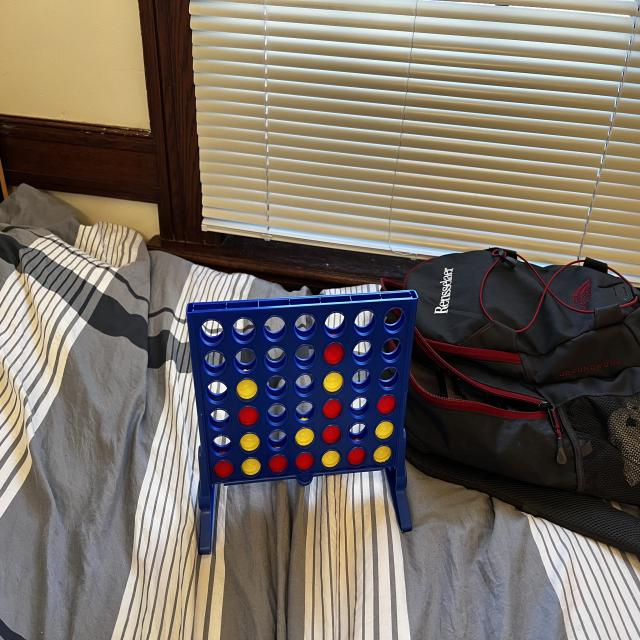Board: (185, 286, 420, 488)
No Piece: (323, 308, 349, 341), (199, 318, 226, 349), (382, 304, 408, 336), (230, 315, 258, 344), (353, 307, 378, 339), (262, 313, 289, 342), (263, 344, 289, 374), (200, 350, 229, 376), (294, 312, 319, 342), (232, 347, 258, 375), (206, 406, 232, 434), (264, 374, 290, 401), (351, 338, 376, 366), (293, 370, 318, 398), (202, 381, 231, 405), (292, 397, 318, 423), (380, 336, 404, 364), (350, 367, 374, 395), (294, 344, 318, 370), (266, 402, 290, 428), (209, 434, 235, 458), (377, 365, 401, 390), (346, 422, 371, 446), (348, 394, 371, 419), (266, 429, 290, 452)
Red Piece: (322, 340, 347, 368), (294, 448, 316, 474), (237, 406, 261, 429), (320, 422, 343, 446), (321, 398, 344, 422), (376, 391, 398, 416), (346, 445, 368, 468), (212, 459, 235, 480), (268, 453, 288, 475)
Yellow Piece: (321, 369, 346, 396), (236, 377, 259, 401), (374, 418, 397, 442), (294, 424, 316, 448), (321, 447, 342, 470), (372, 444, 395, 464), (241, 456, 262, 476), (239, 433, 260, 452)
